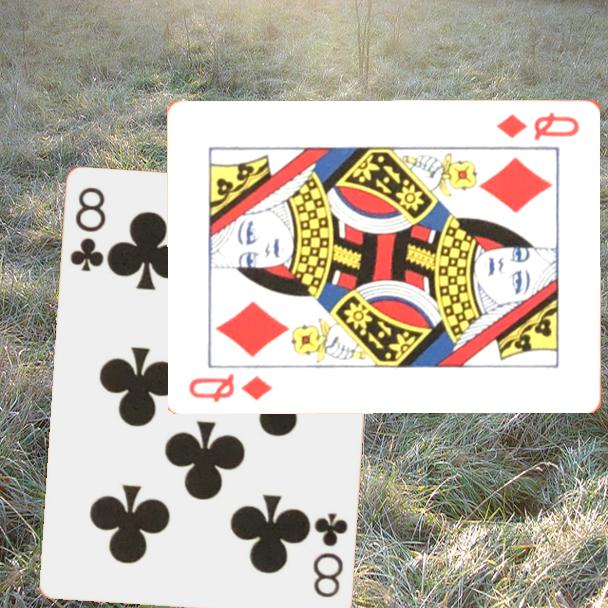c08: (67, 184, 109, 275), (310, 509, 351, 601)
d12: (494, 108, 583, 143), (186, 369, 275, 404)
